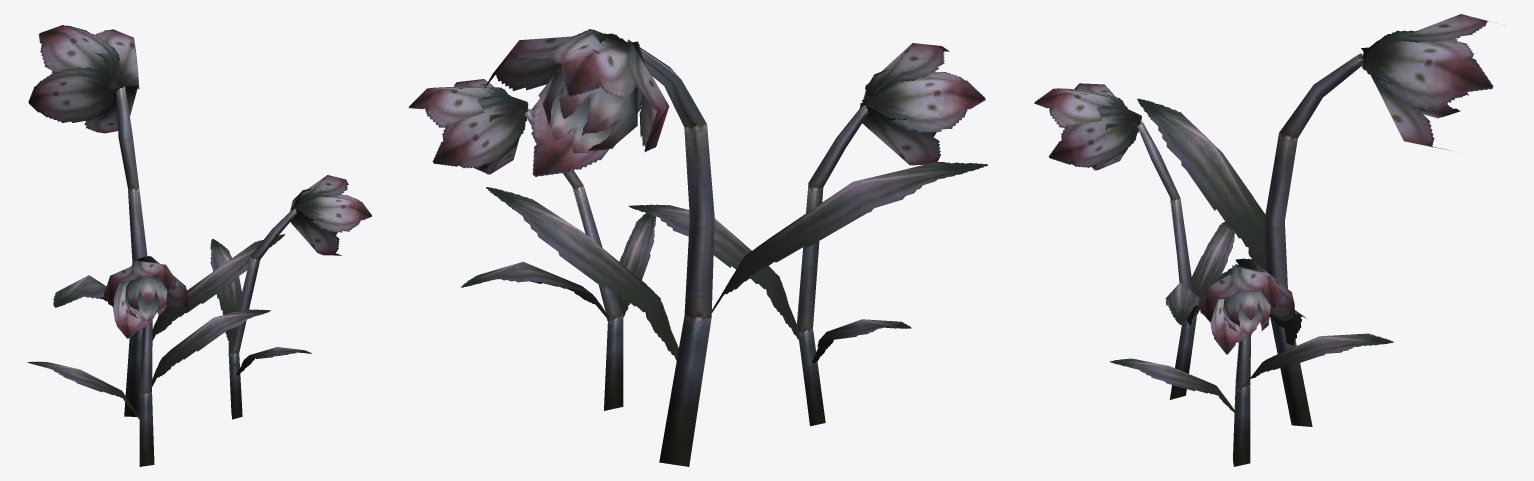
File: OZ_02_ma_flower01B.glb
The picture shows the model from 3 angles, left to right: view 1: azimuth 30°, elevation 25°; view 2: azimuth 150°, elevation 25°; view 3: azimuth 270°, elevation 25°; orthographic projection. The views are drawn at different scales.
Visible parts, largest first — view 1: OM_02_ma_flower01B; view 2: OM_02_ma_flower01B; view 3: OM_02_ma_flower01B.
Part boxes in pixels (x1,y1,x2,y2): OM_02_ma_flower01B: [27, 25, 371, 466]; OM_02_ma_flower01B: [408, 29, 987, 466]; OM_02_ma_flower01B: [1034, 14, 1493, 466].
Bounding box in the file's own units: 2.85 × 2.44 × 2.7.
Materials: 1 (1 with a texture image).
